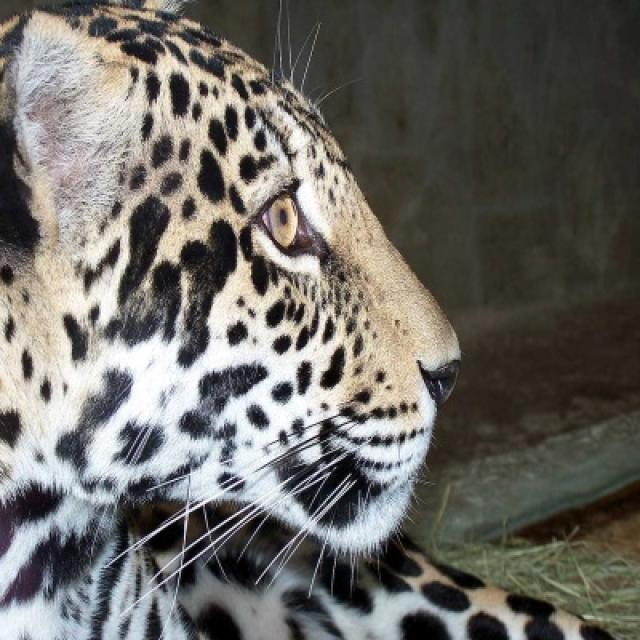Jaguar: (0, 0, 622, 638)
